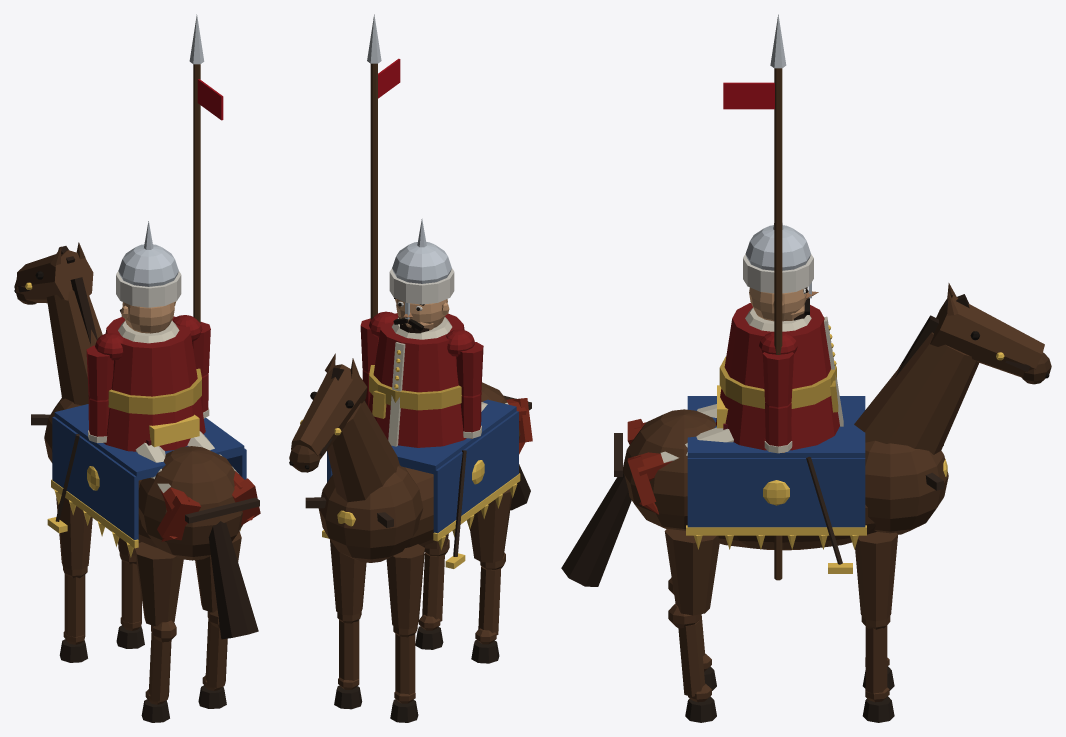
File: sipahi.glb
The picture shows the model from 3 angles, left to right: view 1: azimuth 30°, elevation 25°; view 2: azimuth 150°, elevation 25°; view 3: azimuth 270°, elevation 25°; orthographic projection. The views are drawn at different scales.
Parts seen in each view (by area): view 1: at_govde, govde, at_boyun, at_bacak2, bas, kolR, at_bacak0, at_kuyruk, at_bacak3, at_bacak1, kolL, bacakL (+1 smaller); view 2: at_govde, govde, at_boyun, bas, at_bacak0, at_bacak2, at_bacak1, kolR, at_bacak3, kolL, bacakL, at_kuyruk; view 3: at_govde, at_boyun, govde, kolR, at_bacak3, at_bacak1, bas, at_kuyruk, bacakR.
Part boxes in pixels (left/top/right/bottom): at_govde: left=31, top=398, right=259, bottom=560; govde: left=95, top=315, right=205, bottom=451; at_boyun: left=14, top=242, right=102, bottom=405; at_bacak2: left=134, top=542, right=183, bottom=722; bas: left=116, top=221, right=181, bottom=333; kolR: left=189, top=14, right=223, bottom=418; at_bacak0: left=56, top=496, right=92, bottom=662; at_kuyruk: left=208, top=521, right=258, bottom=639; at_bacak3: left=195, top=531, right=241, bottom=708; at_bacak1: left=116, top=537, right=144, bottom=648; kolL: left=86, top=345, right=113, bottom=442; bacakL: left=135, top=442, right=201, bottom=541; at_govde: left=305, top=382, right=531, bottom=568; govde: left=368, top=311, right=474, bottom=447; at_boyun: left=289, top=353, right=399, bottom=502; bas: left=389, top=218, right=454, bottom=333; at_bacak0: left=386, top=544, right=424, bottom=722; at_bacak2: left=470, top=489, right=511, bottom=663; at_bacak1: left=330, top=540, right=366, bottom=709; kolR: left=360, top=14, right=400, bottom=406; at_bacak3: left=415, top=533, right=449, bottom=649; kolL: left=456, top=342, right=483, bottom=438; bacakL: left=481, top=398, right=532, bottom=454; at_kuyruk: left=510, top=464, right=530, bottom=510; at_govde: left=614, top=385, right=948, bottom=573; at_boyun: left=854, top=283, right=1051, bottom=454; govde: left=716, top=303, right=843, bottom=450; kolR: left=723, top=14, right=793, bottom=580; at_bacak3: left=664, top=529, right=719, bottom=722; at_bacak1: left=855, top=532, right=897, bottom=722; bas: left=743, top=223, right=818, bottom=321; at_kuyruk: left=561, top=471, right=631, bottom=586; bacakR: left=627, top=427, right=733, bottom=514.
Size of the model in its own units: 0.94 by 4.43 by 2.76.
